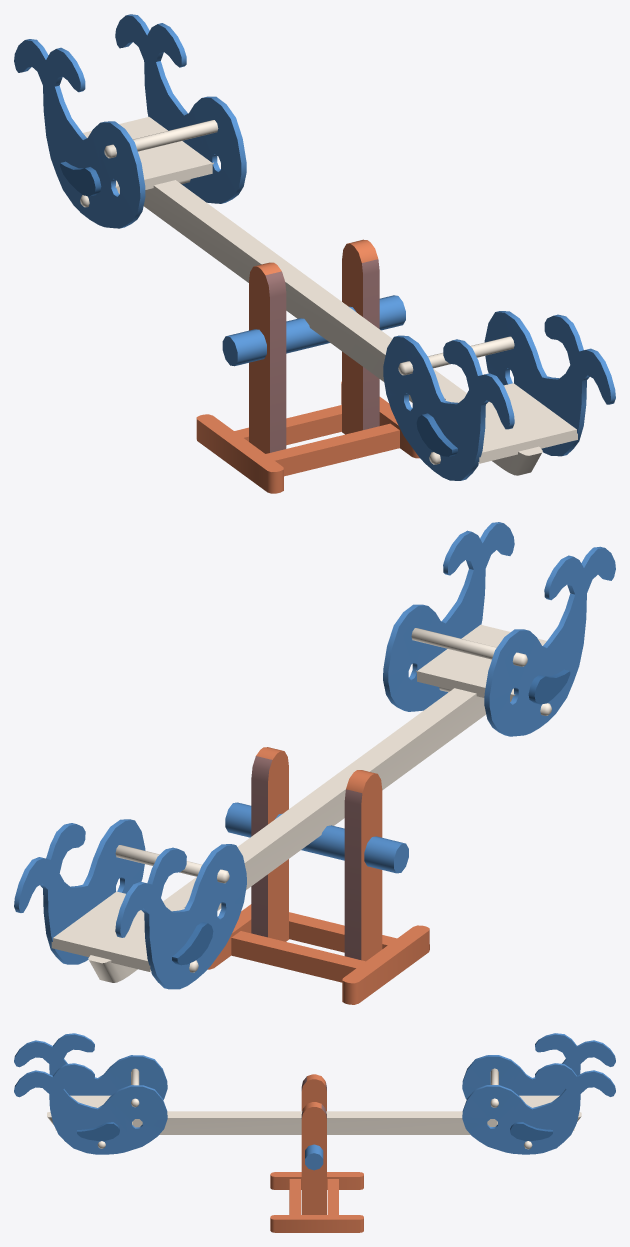
The model's file is SeeSaw_Fish_01.fbx.
3 renders of one model, top to bottom at view 1: azimuth 30°, elevation 25°; view 2: azimuth 150°, elevation 25°; view 3: azimuth 270°, elevation 25°, orthographic. The views are drawn at different scales.
Parts seen in each view (by area): view 1: SeeSaw_Fish_01_top, SeeSaw_Fish_01_bottom; view 2: SeeSaw_Fish_01_top, SeeSaw_Fish_01_bottom; view 3: SeeSaw_Fish_01_top, SeeSaw_Fish_01_bottom.
Part boxes in pixels (<box>): SeeSaw_Fish_01_top: <box>14,14,615,480</box>; SeeSaw_Fish_01_bottom: <box>196,239,419,493</box>; SeeSaw_Fish_01_top: <box>14,522,615,989</box>; SeeSaw_Fish_01_bottom: <box>208,747,429,1004</box>; SeeSaw_Fish_01_top: <box>14,1033,615,1154</box>; SeeSaw_Fish_01_bottom: <box>270,1074,363,1232</box>.
Size of the model in its own units: 0.7842 by 1.18 by 4.
